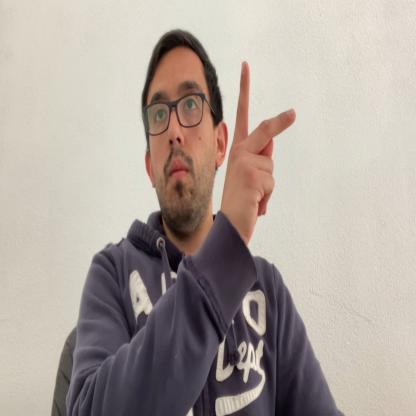P: (222, 61, 296, 242)
